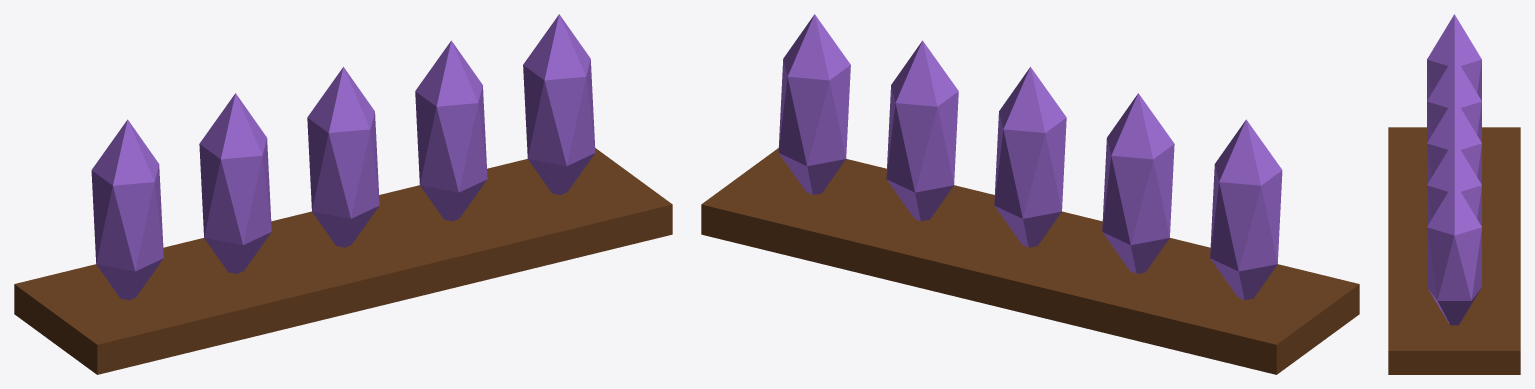
File: garden2_lavender_row.glb
3 renders of one model, left to right at view 1: azimuth 30°, elevation 25°; view 2: azimuth 150°, elevation 25°; view 3: azimuth 270°, elevation 25°, orthographic. The views are drawn at different scales.
Parts seen in each view (by area): view 1: lavender_row; view 2: lavender_row; view 3: lavender_row.
Part boxes in pixels (<box>): lavender_row: <box>14,14,672,374</box>; lavender_row: <box>701,14,1359,374</box>; lavender_row: <box>1388,14,1520,374</box>.
Bounding box in the file's own units: 0.8 × 0.276 × 0.2.
